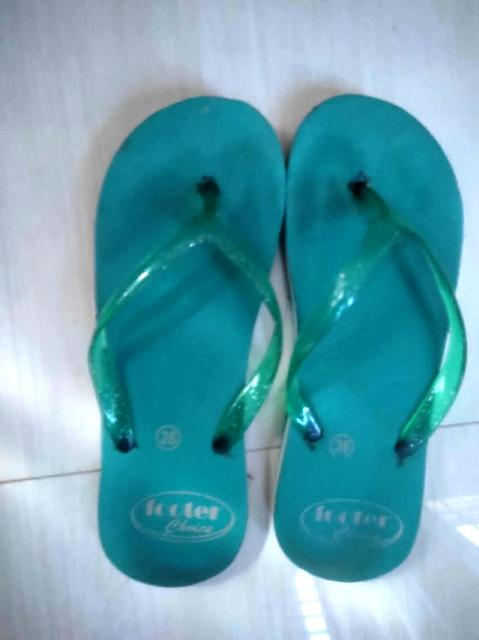sandal: (245, 72, 477, 590), (89, 59, 280, 600)
